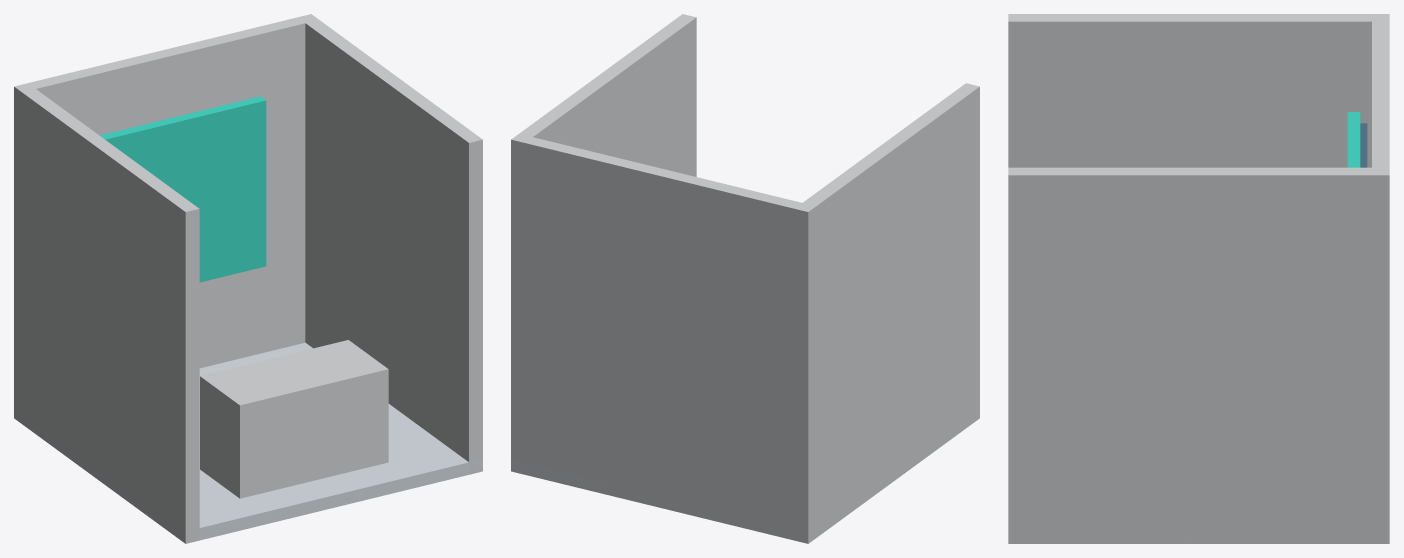
3 views of the same model, side by side, from view 1: azimuth 30°, elevation 25°; view 2: azimuth 150°, elevation 25°; view 3: azimuth 270°, elevation 25° (orthographic). The views are drawn at different scales.
Visible parts, largest first — view 1: Exhibition Booth Concept; view 2: Exhibition Booth Concept; view 3: Exhibition Booth Concept.
Part boxes in pixels (x1,y1,x2,y2): Exhibition Booth Concept: (14, 14, 482, 543); Exhibition Booth Concept: (511, 14, 979, 543); Exhibition Booth Concept: (1008, 14, 1389, 543).
Size of the model in its own units: 3 by 3.2 by 3.
